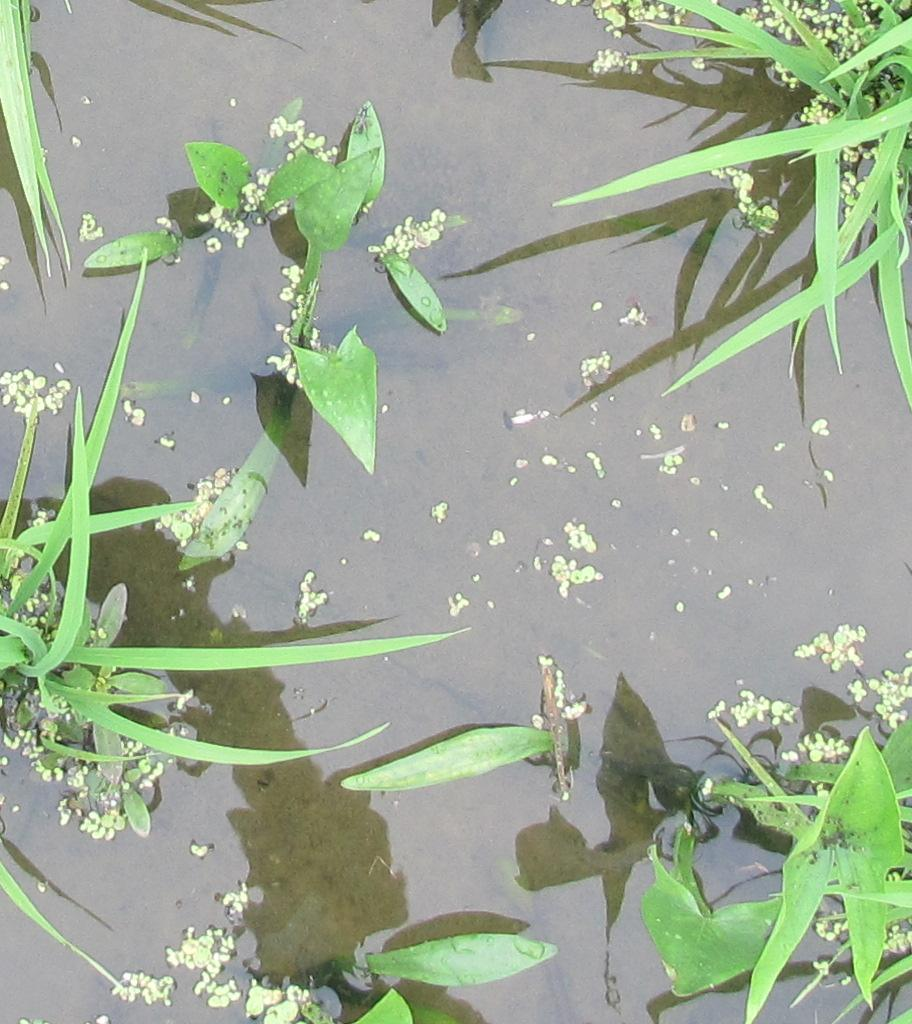Weed: (757, 680, 911, 1005), (266, 133, 396, 483), (639, 855, 772, 997)
